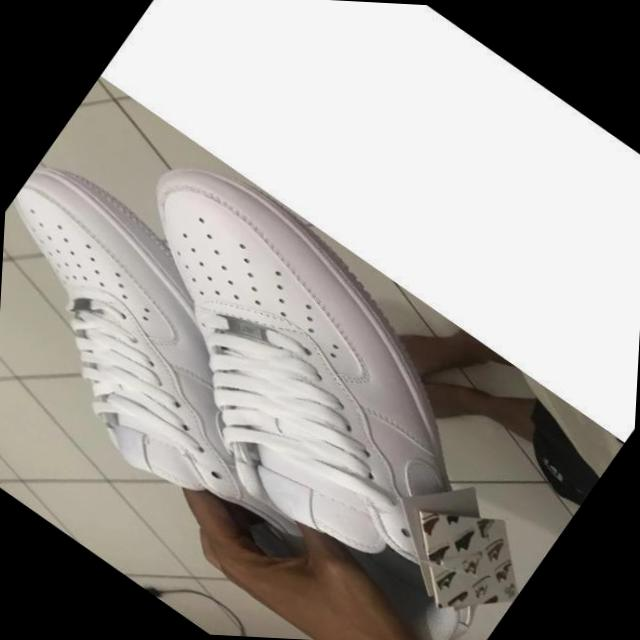nike_original_airforce: (0, 126, 625, 640), (0, 150, 373, 557)
